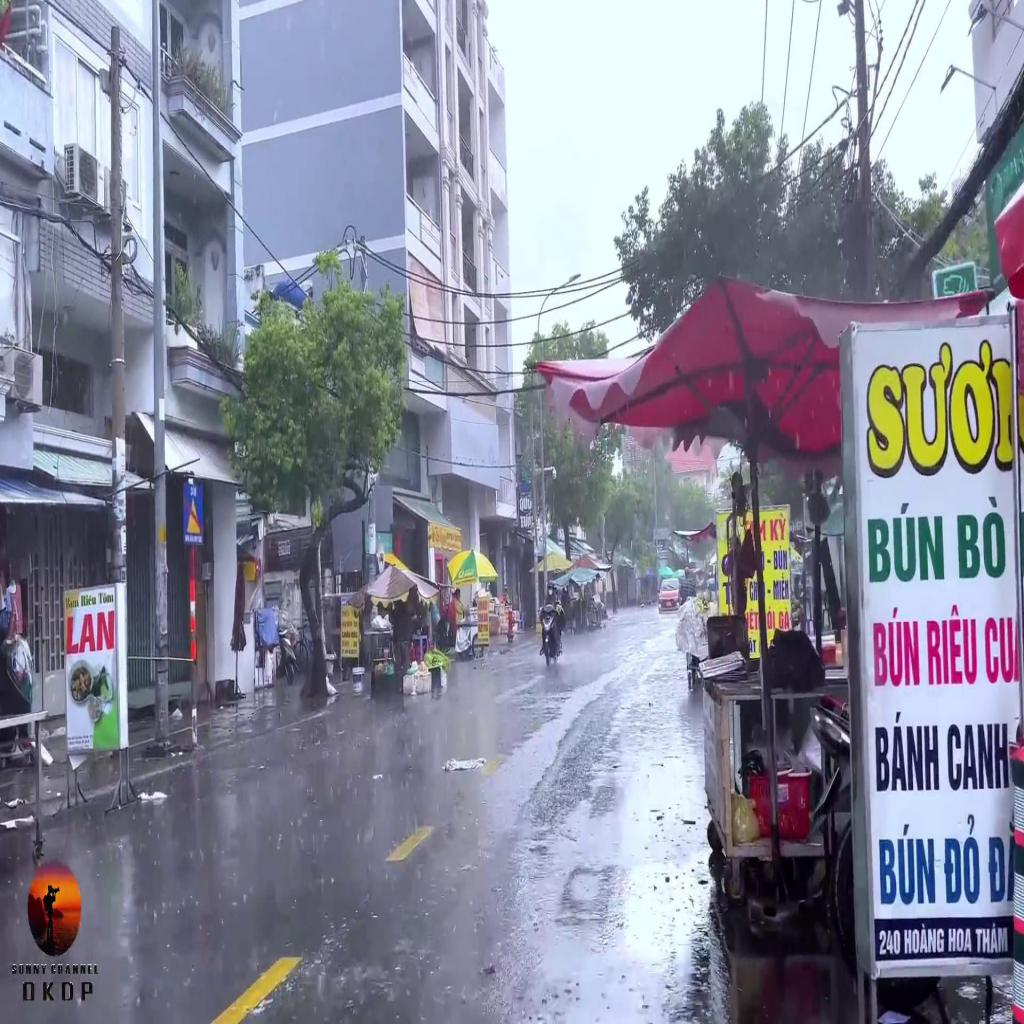khac: (182, 484, 203, 544)
